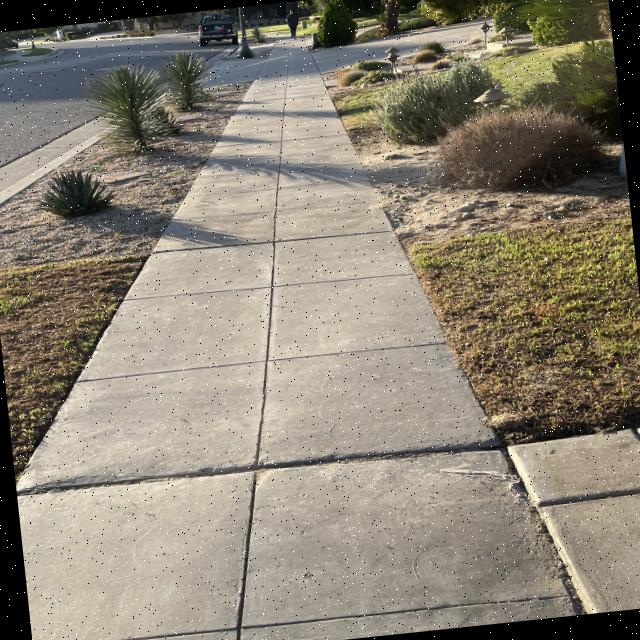curb: (28, 108, 128, 164), (0, 141, 75, 204)
walkway: (23, 445, 530, 640), (75, 343, 462, 517), (132, 260, 428, 432), (188, 178, 386, 320), (223, 120, 351, 223), (248, 84, 338, 208), (251, 49, 334, 128)
walkway-edge: (402, 217, 608, 629), (350, 132, 432, 278), (37, 356, 102, 445), (96, 248, 162, 326), (221, 80, 265, 143), (174, 142, 224, 188)
